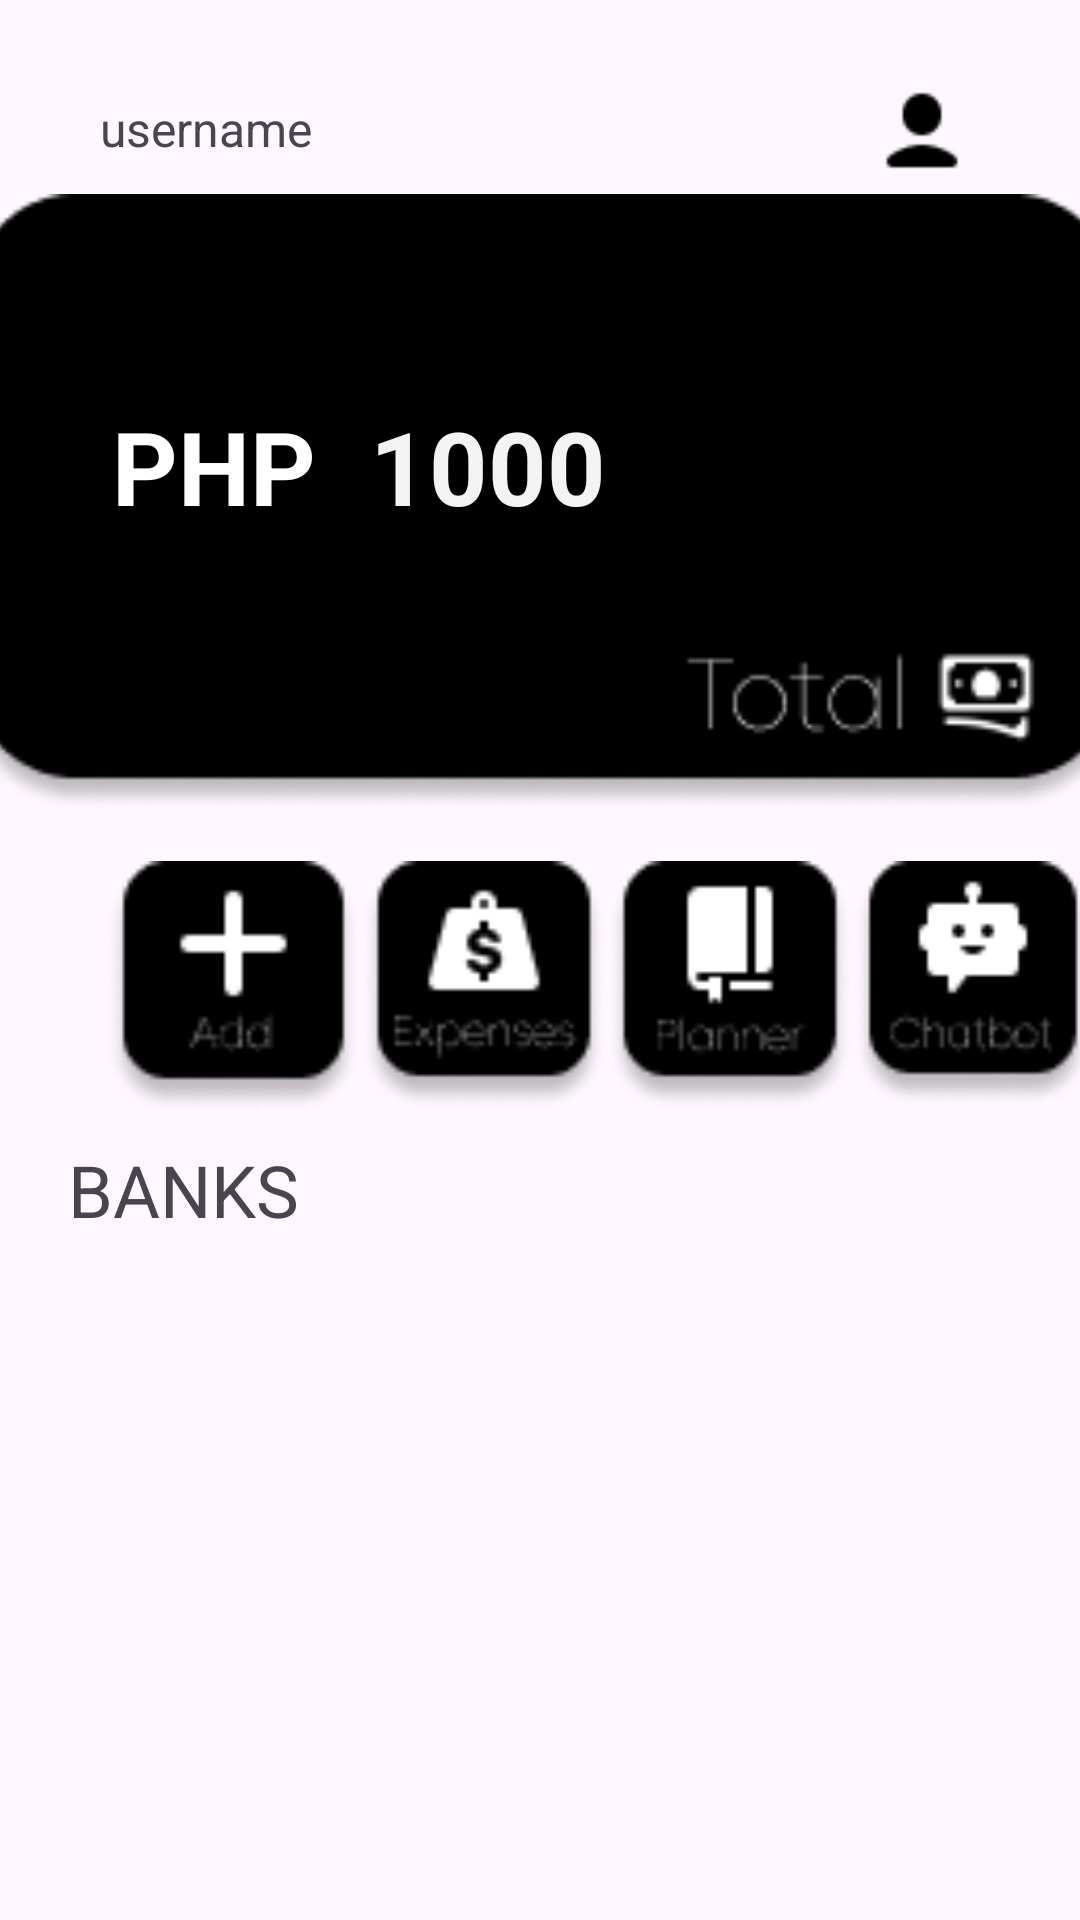

Screen size 1080×1920. Icon name, then its center in pixels as [x,y]:
user: [922,130]
